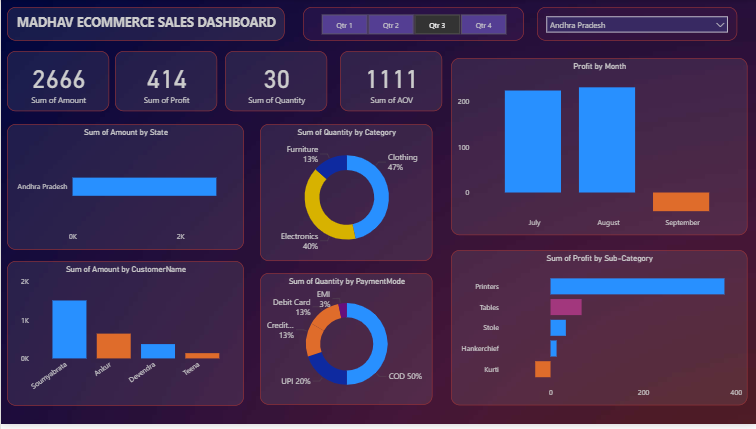

What the dashboard file says about the page in this screenshot:
{"tool":"powerbi","page":{"name":"Page 1","canvas":[1280,720],"ordinal":0},"visuals":[{"type":"textbox","box":[10.1,13.4,469.7,57],"z":0},{"type":"columnChart","title":"Profit by Month","fields":{"Category":["Orders.Order Date.Variation.Date Hierarchy.Month"],"Y":["Details.Profit"]},"box":[761.6,100.7,501.6,300.3],"z":1000},{"type":"barChart","fields":{"Category":["Details.Sub-Category"],"Y":["Details.Profit"]},"box":[761.6,424.4,501.6,263.4],"z":2000},{"type":"donutChart","fields":{"Category":["Details.Category"],"Y":["Details.Quantity"]},"box":[437.9,211.4,291.9,231.5],"z":3000},{"type":"donutChart","fields":{"Y":["Details.Quantity"],"Category":["Details.PaymentMode"]},"box":[437.9,464.7,291.9,223.1],"z":4000},{"type":"card","fields":{"Values":["Details.Amount"]},"box":[10.1,87.2,172.8,102.3],"z":5000},{"type":"card","fields":{"Values":["Details.Profit"]},"box":[192.9,87.2,172.8,102.3],"z":6000},{"type":"card","fields":{"Values":["Details.Quantity"]},"box":[379.1,87.2,172.8,102.3],"z":7000},{"type":"card","fields":{"Values":["Details.AOV"]},"box":[573.7,87.2,172.8,102.3],"z":8000},{"type":"barChart","fields":{"Category":["Orders.State"],"Y":["Details.Amount"]},"box":[10.1,211.4,400.9,213.1],"z":9000},{"type":"columnChart","fields":{"Category":["Orders.CustomerName"],"Y":["Details.Amount"]},"box":[10.1,442.9,400.9,244.9],"z":10000},{"type":"slicer","fields":{"Values":["Orders.Order Date.Variation.Date Hierarchy.Quarter"]},"box":[511.7,13.4,374.1,57],"z":11000},{"type":"slicer","fields":{"Values":["Orders.State"]},"box":[907.6,13.4,338.9,57],"z":12000}]}

Visuals, with their boxes in screenshot pixels (x1, y1, x2, y2), scaled from the page's 1280x720 canvas onto the 756x429 screenshot:
textbox: 6:8:283:42
"Profit by Month" columnChart: 450:60:746:239
barChart - Details.Sub-Category x Details.Profit: 450:253:746:410
donutChart - Details.Category x Details.Quantity: 259:126:431:264
donutChart - Details.Quantity x Details.PaymentMode: 259:277:431:410
card - Details.Amount: 6:52:108:113
card - Details.Profit: 114:52:216:113
card - Details.Quantity: 224:52:326:113
card - Details.AOV: 339:52:441:113
barChart - Orders.State x Details.Amount: 6:126:243:253
columnChart - Orders.CustomerName x Details.Amount: 6:264:243:410
slicer - Orders.Order Date.Variation.Date Hierarchy.Quarter: 302:8:523:42
slicer - Orders.State: 536:8:736:42
